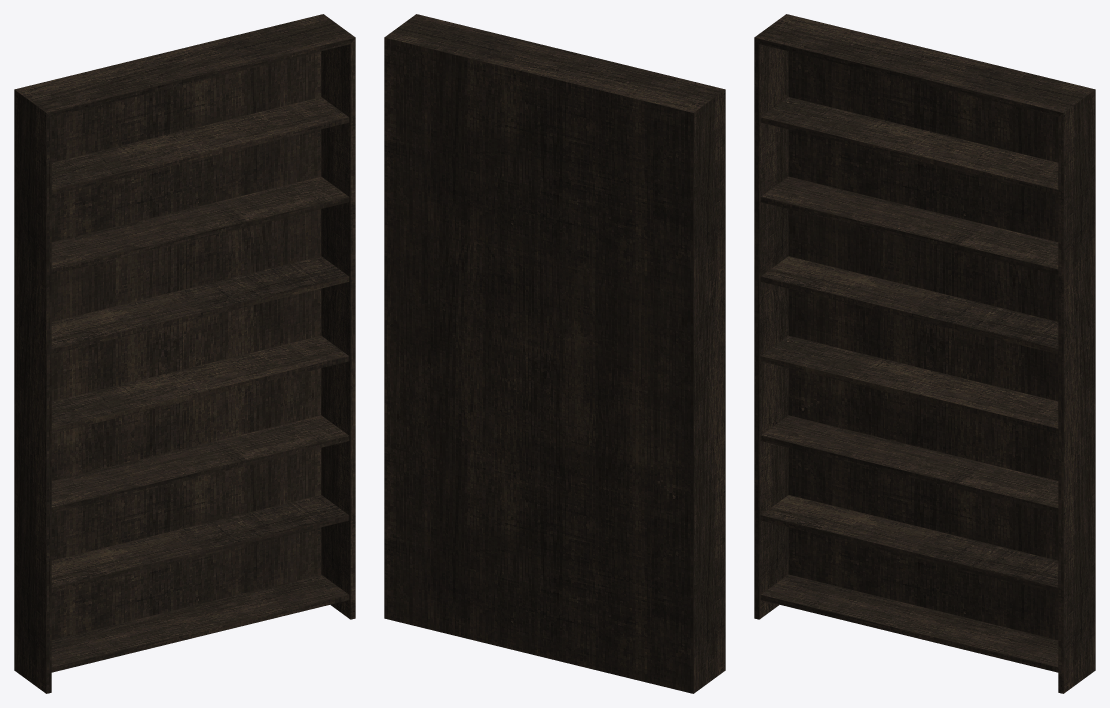
The model's file is shelf_mp_4_2.glb.
3 renders of one model, left to right at view 1: azimuth 30°, elevation 25°; view 2: azimuth 150°, elevation 25°; view 3: azimuth 330°, elevation 25°, orthographic.
Visible parts, largest first — view 1: shelf_mp_4_2; view 2: shelf_mp_4_2; view 3: shelf_mp_4_2.
Part boxes in pixels (<box>): shelf_mp_4_2: <box>14,14,355,693</box>; shelf_mp_4_2: <box>384,14,725,693</box>; shelf_mp_4_2: <box>754,14,1095,693</box>.
Size of the model in its own units: 1.22 by 2.19 by 0.22.
Materials: 1 (1 with a texture image).
